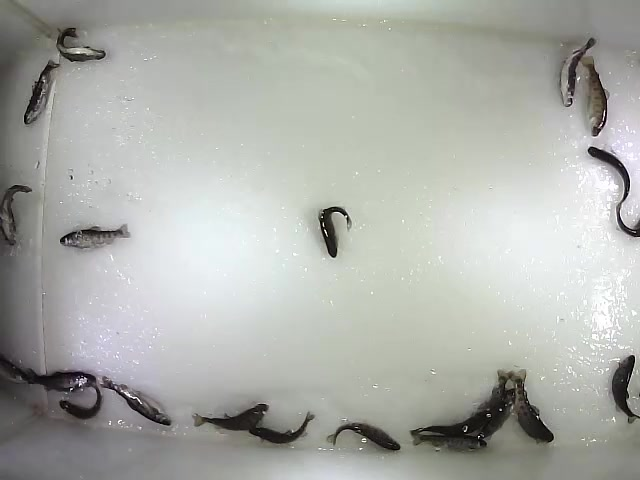fish: (99, 374, 173, 428), (506, 369, 555, 444), (556, 34, 597, 109), (587, 145, 634, 206), (22, 58, 62, 126), (189, 400, 272, 432), (579, 54, 610, 139), (326, 420, 403, 454), (247, 410, 317, 445), (610, 352, 640, 427), (56, 224, 132, 251), (1, 183, 33, 247), (317, 205, 353, 261), (24, 367, 98, 394), (55, 26, 107, 64), (411, 433, 491, 455), (58, 381, 102, 421)
